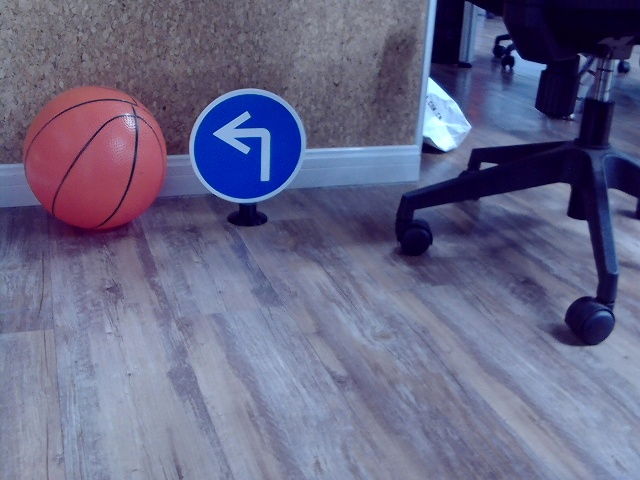turn_left: (211, 110, 276, 183)
